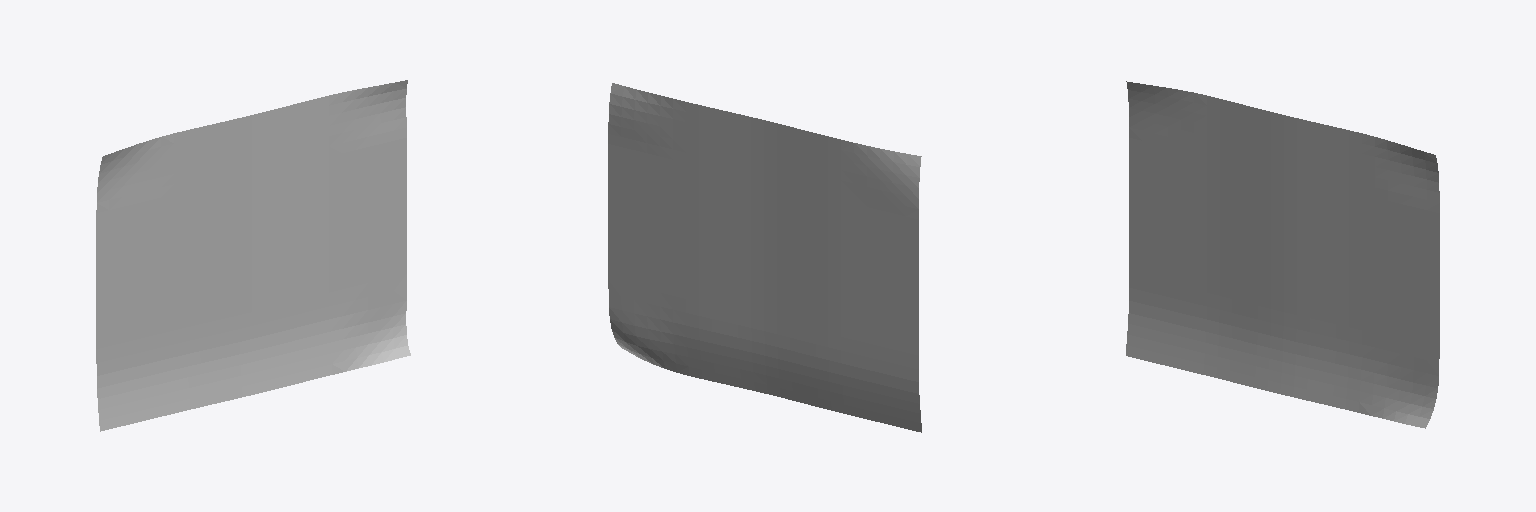
File: worldmap.obj
The picture shows the model from 3 angles: view 1: azimuth 30°, elevation 25°; view 2: azimuth 150°, elevation 25°; view 3: azimuth 330°, elevation 25°; orthographic projection.
Visible parts, largest first — view 1: worldMap; view 2: worldMap; view 3: worldMap.
Boxes of the visible parts, <box> form: worldMap: <box>96,80,410,431</box>; worldMap: <box>608,83,921,432</box>; worldMap: <box>1126,81,1439,428</box>.
Bounding box in the file's own units: 1.25 × 1.06 × 0.0653.